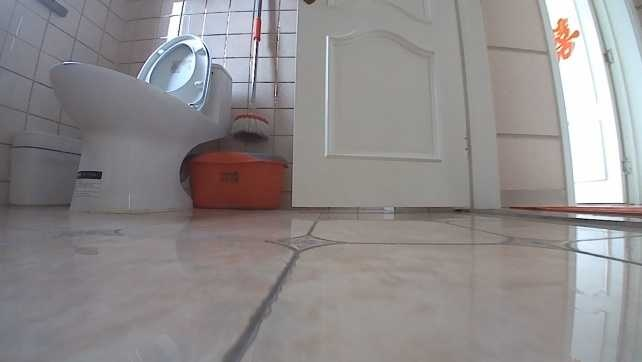door_anno: (289, 0, 501, 211), (546, 0, 642, 204)
door_sill: (480, 207, 640, 230)
toilet: (50, 33, 233, 214)
